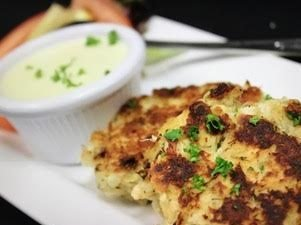sandwich: (134, 14, 301, 56), (136, 15, 229, 45)
sushi: (0, 21, 147, 117)
